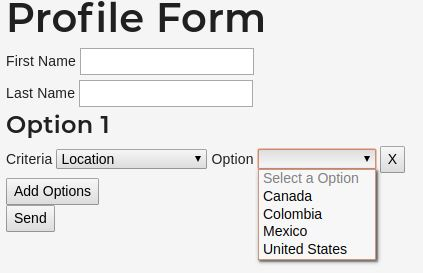_form_: (1, 1, 416, 273)
button: (5, 177, 99, 205), (5, 205, 55, 233)
checkbox_with_label: (6, 44, 256, 77), (6, 77, 258, 109), (5, 145, 209, 172), (212, 146, 379, 172)
field: (77, 78, 256, 108), (77, 47, 255, 76), (55, 147, 207, 170), (256, 147, 378, 170)
